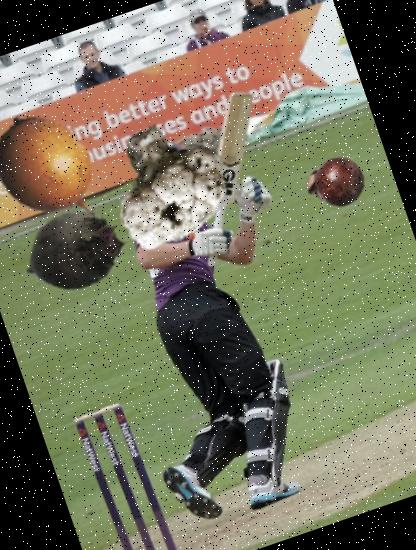Beetroot: (6, 180, 146, 320)
Cauliflower: (87, 103, 246, 262)
Granadilla: (0, 89, 135, 258)
Mangostan: (299, 143, 374, 218)
